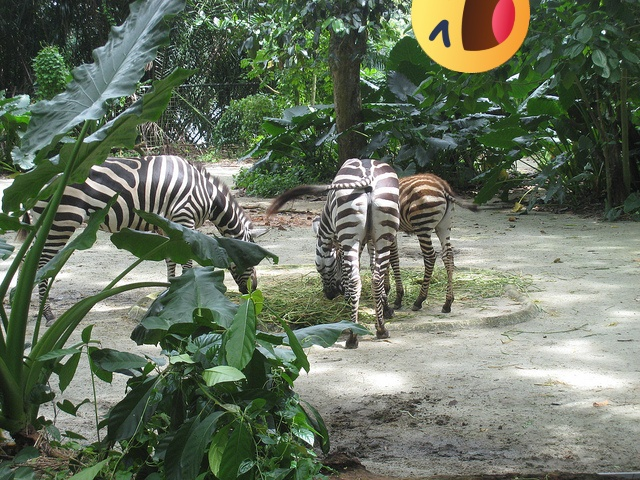haha: (411, 0, 530, 73)
